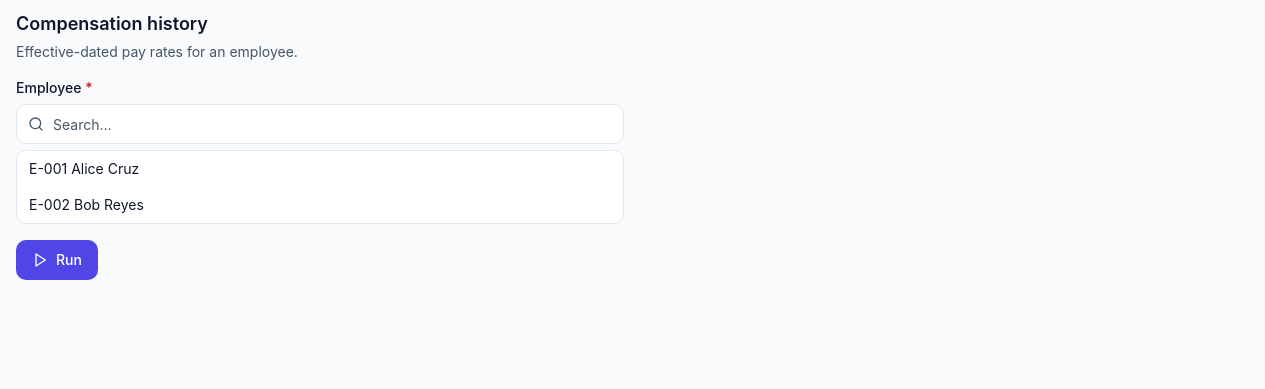
Scenario: HR manifest — US1 employees + compensation › compensation: shows effective-dated rates for a picked employee
What coordinates should you click on to do the following:
click the button "E-001 Alice Cruz"
I would click on:
 (84, 168)
Its box is x1=17 y1=151 x2=623 y2=187.
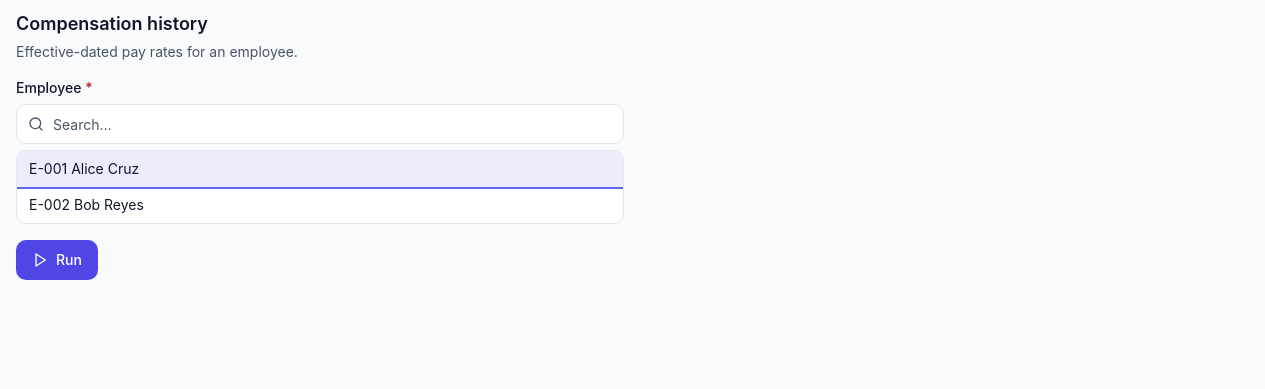
What coordinates should you click on to do the following:
click the button "Run"
I would click on:
 (57, 260)
Its box is x1=16 y1=240 x2=98 y2=280.
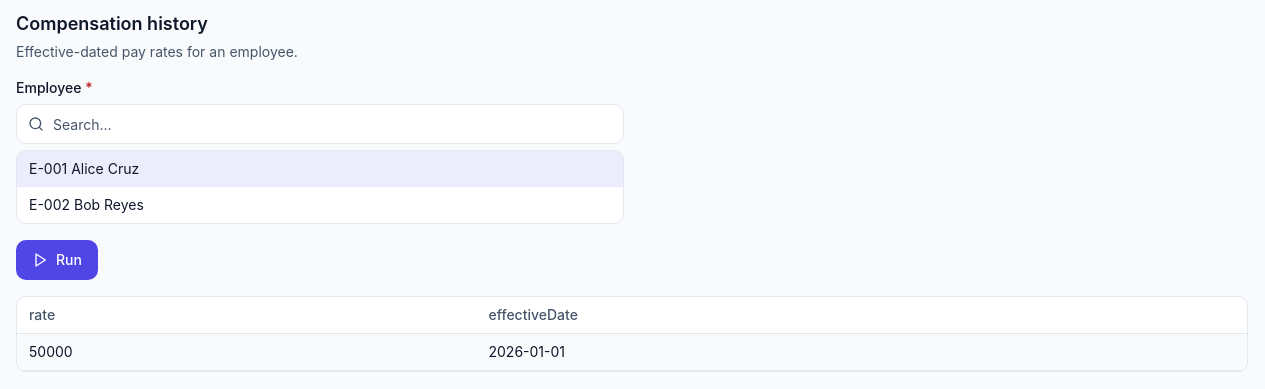
Expected: the text "50000" is shown, x1=17 y1=334 x2=476 y2=370
